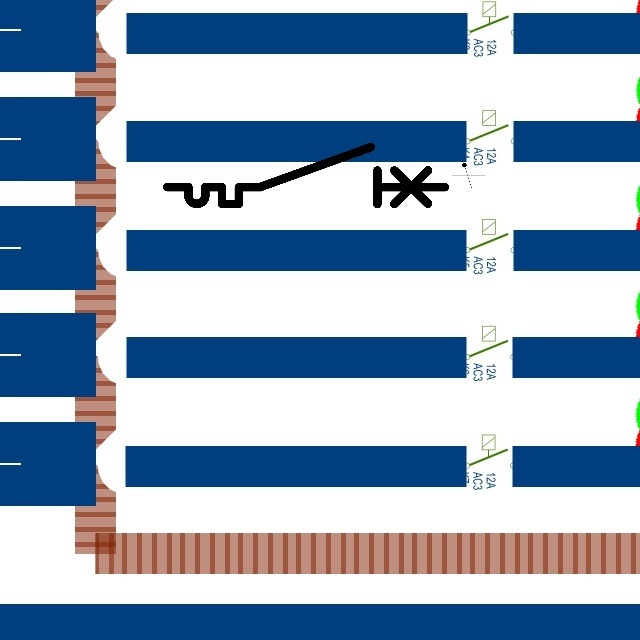interruptor_termomagnetico: (160, 140, 452, 211)
